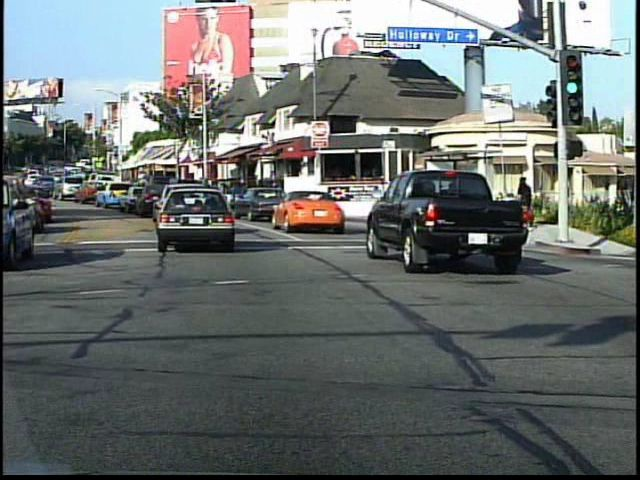person: (609, 191, 631, 262)
